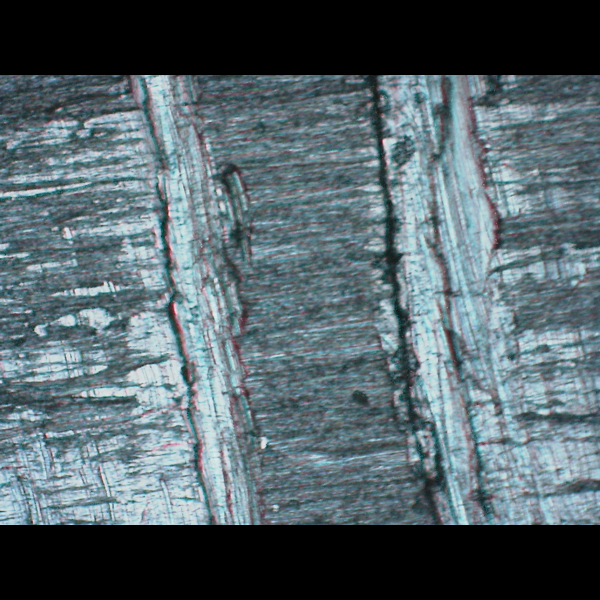d: (0, 75, 274, 524), (356, 76, 599, 524)
